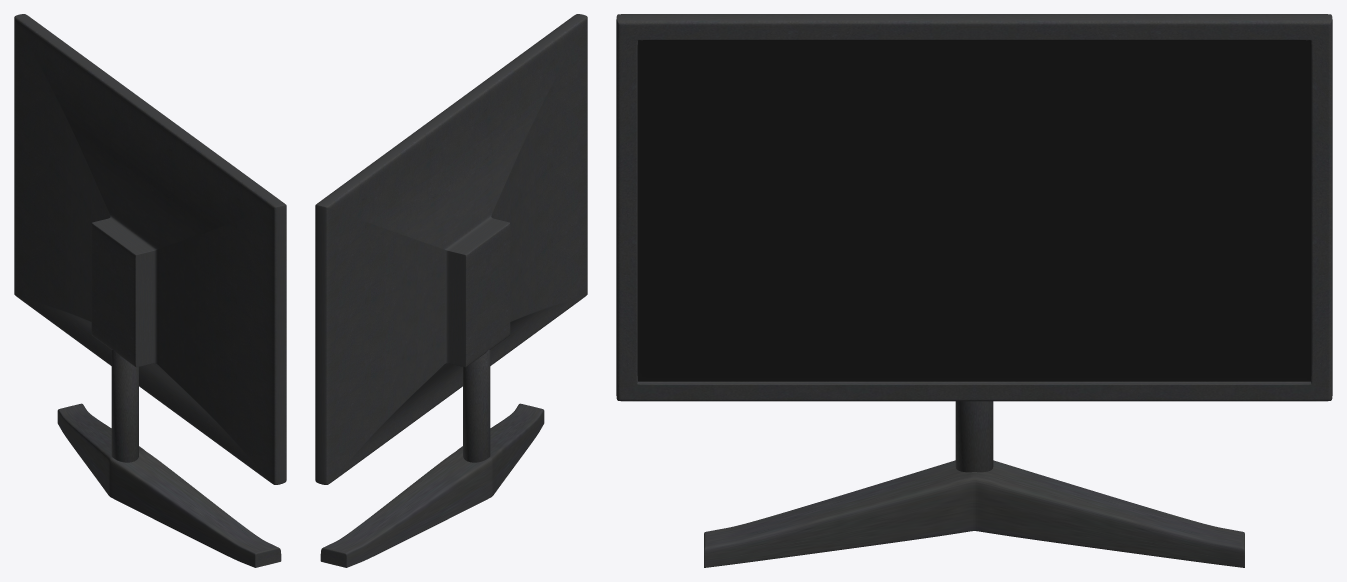
File: 16x9MonitorDefault.glb
The picture shows the model from 3 angles, left to right: view 1: azimuth 30°, elevation 25°; view 2: azimuth 150°, elevation 25°; view 3: azimuth 270°, elevation 25°; orthographic projection. The views are drawn at different scales.
Parts seen in each view (by area): view 1: Cube, Cube.001, Cylinder; view 2: Cube, Cube.001, Cylinder; view 3: Cube, Cube.001, Cylinder.
Part boxes in pixels (bbox=[...]): Cube: bbox=[14, 14, 286, 484]; Cube.001: bbox=[57, 403, 281, 567]; Cylinder: bbox=[111, 350, 138, 462]; Cube: bbox=[315, 14, 587, 484]; Cube.001: bbox=[320, 403, 544, 567]; Cylinder: bbox=[463, 350, 490, 462]; Cube: bbox=[616, 14, 1332, 401]; Cube.001: bbox=[704, 460, 1244, 567]; Cylinder: bbox=[955, 401, 993, 472].
Bounding box in the file's own units: 3.63 × 18.52 × 22.7.
4 materials, 3 textured.
